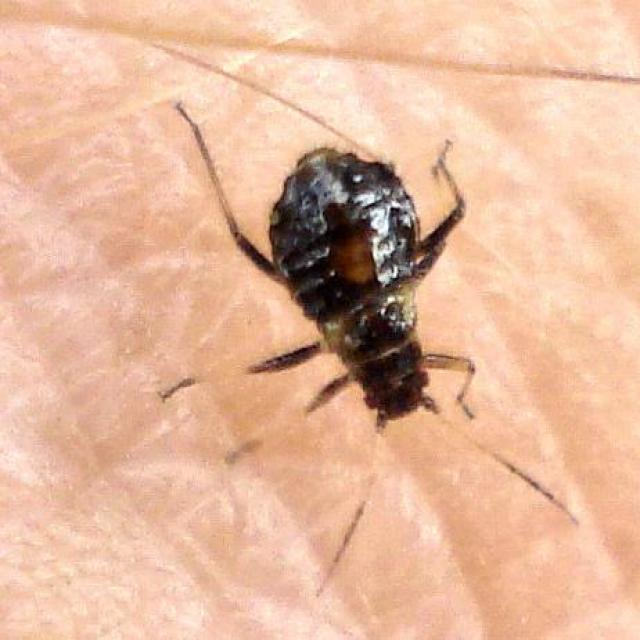Aphids: (194, 133, 522, 526)
